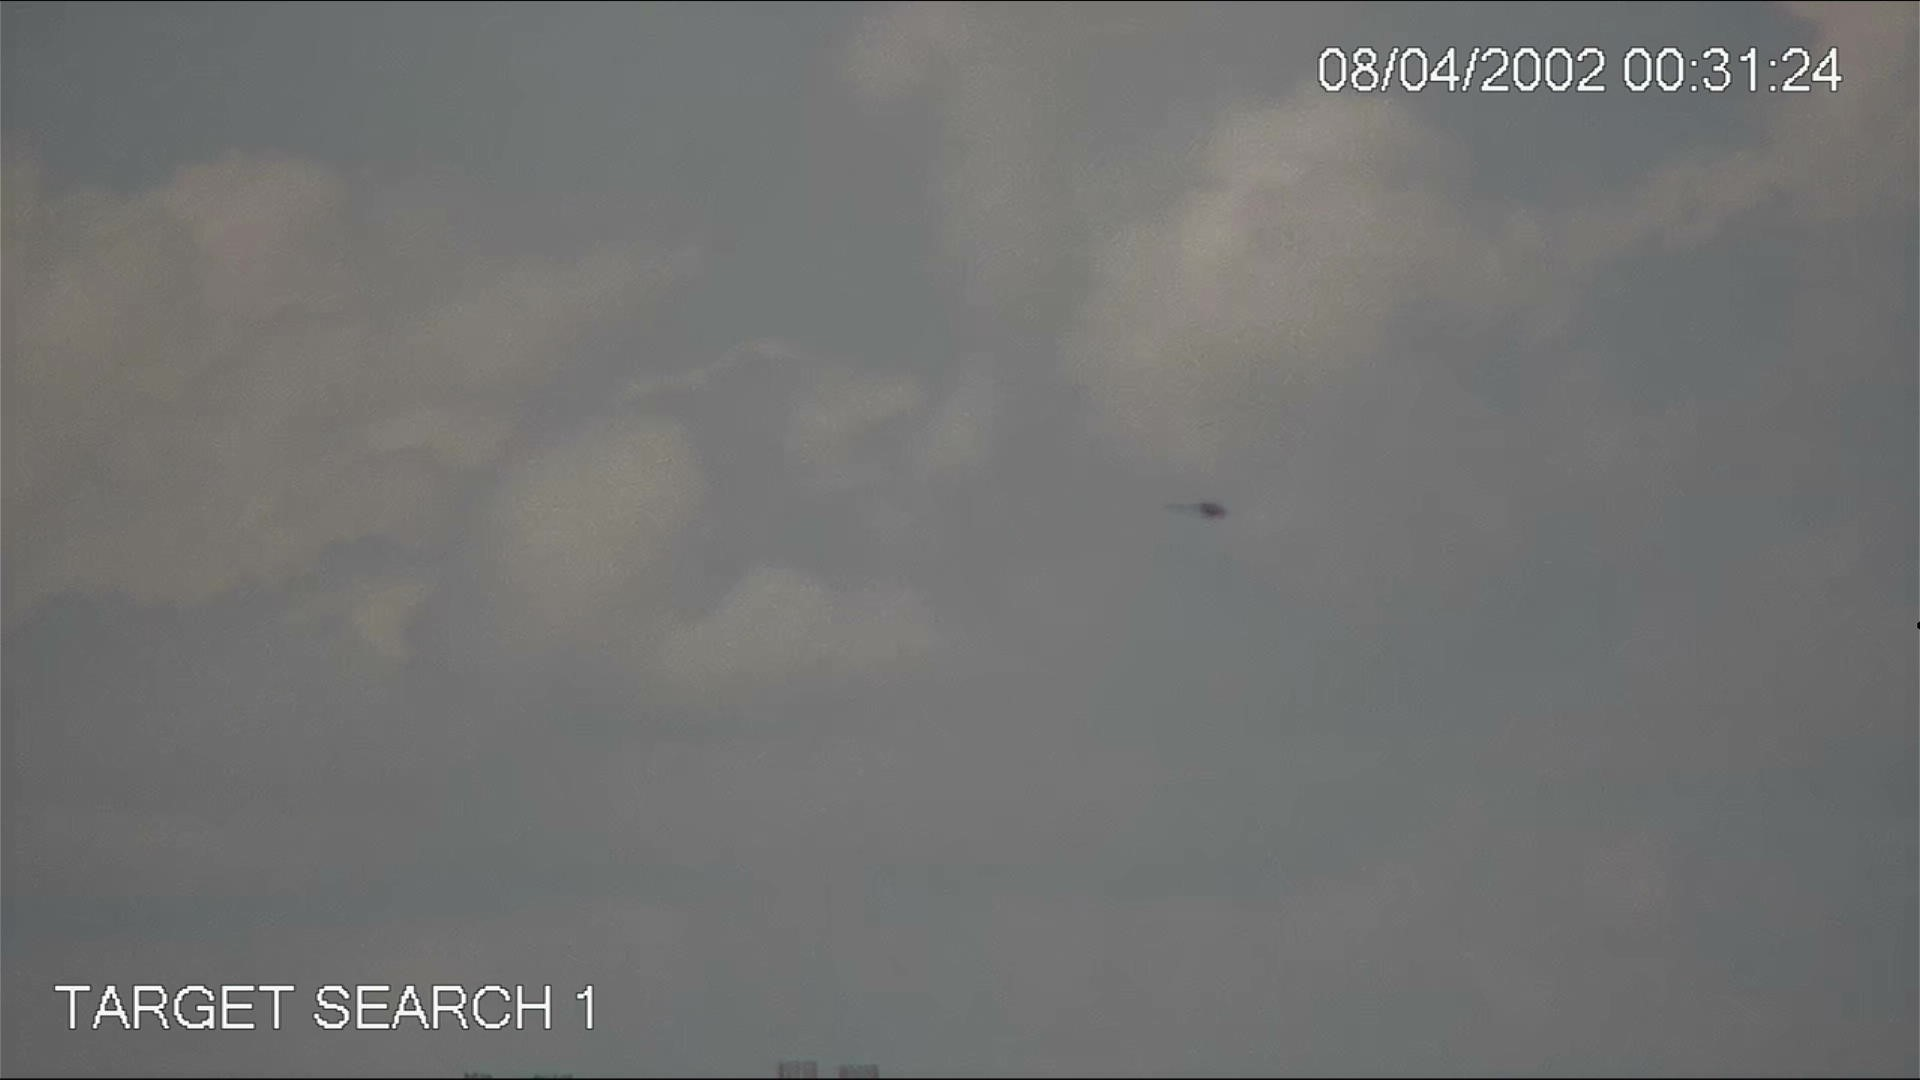SU_30: (1162, 493, 1233, 530)
